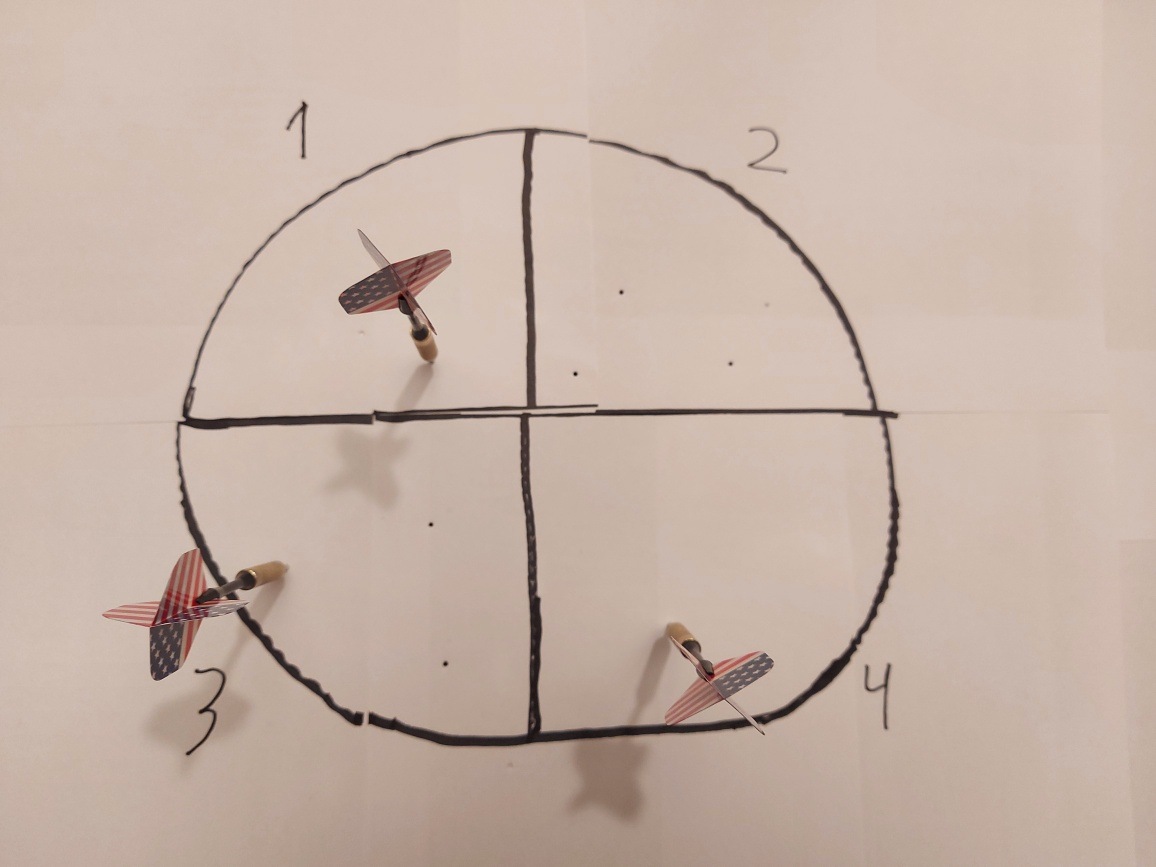Dart: (94, 539, 308, 685), (332, 215, 466, 382), (641, 605, 779, 750)
